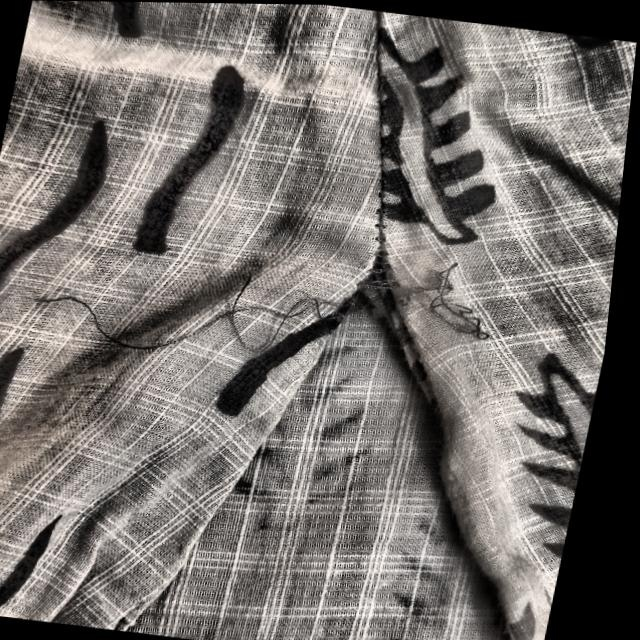Stitch: (4, 164, 545, 444), (233, 181, 535, 443)
